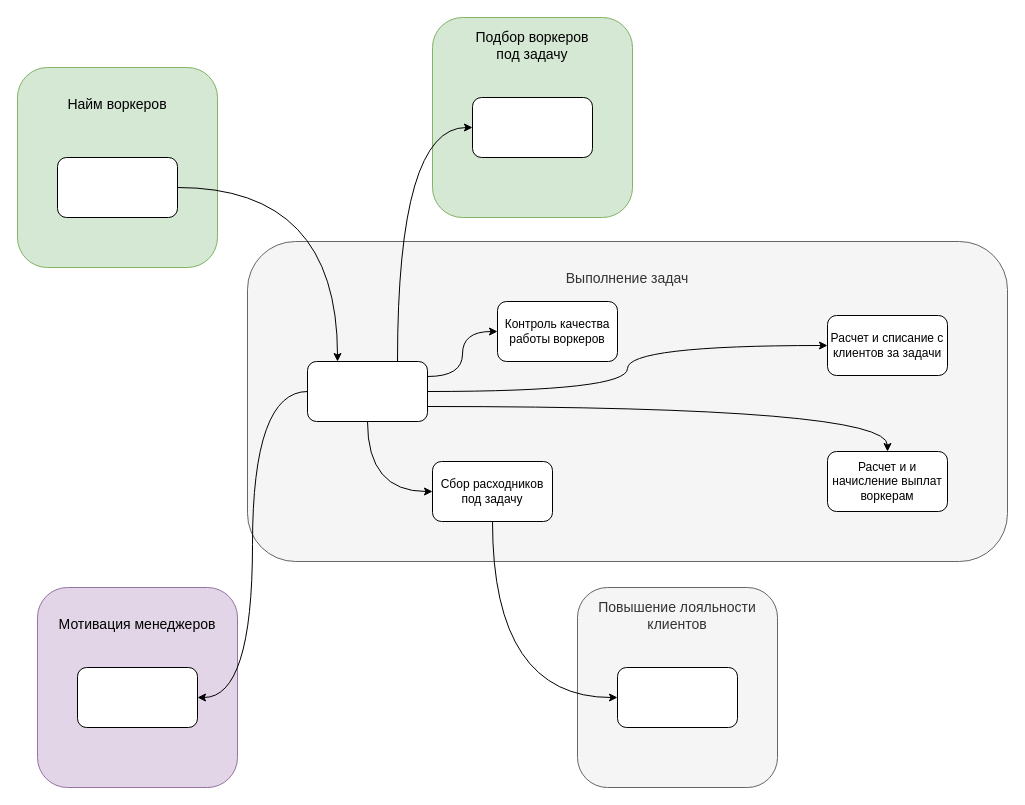
This 1025x805 diagram has some shape labels left out. The shapes that lost their labels are listed below. From the top down, each one's centre as x and y in pixels, then its label:
At (x=532, y=127): "Метчинг воркеров под клиентов".
At (x=117, y=187): "Тестирование и отбор кандидатов в воркеры".
At (x=367, y=391): "Управление задачами".
At (x=137, y=697): "Ставки на спорт результаты выполнения задач".
At (x=677, y=697): "Производство и доставка печенья".
